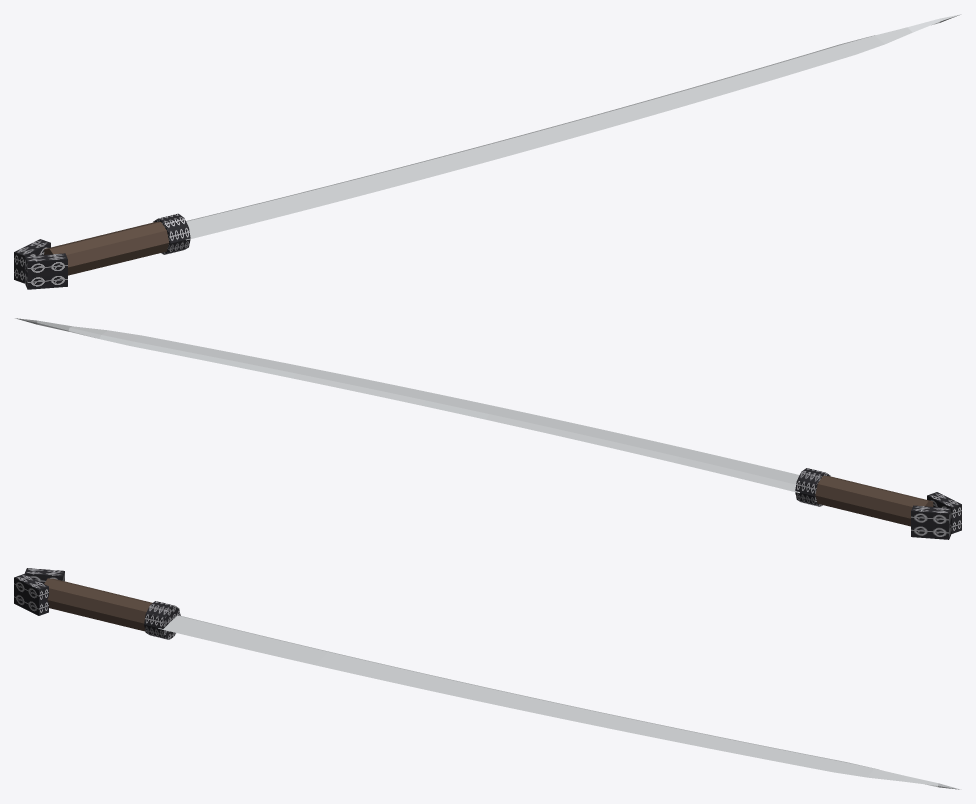
Rendered from shashka.glb.
3 views of the same model, one above another, from view 1: azimuth 30°, elevation 25°; view 2: azimuth 150°, elevation 25°; view 3: azimuth 330°, elevation 25° (orthographic). The views are drawn at different scales.
Parts seen in each view (by area): view 1: Shashka; view 2: Shashka; view 3: Shashka.
Boxes of the visible parts, x1,y1,x2,y2 form: Shashka: (14, 14, 960, 289); Shashka: (15, 318, 961, 539); Shashka: (14, 568, 960, 789).
Size of the model in its own units: 0.9567 by 0.0305 by 0.0716.
Materials: 3 (1 with a texture image).
